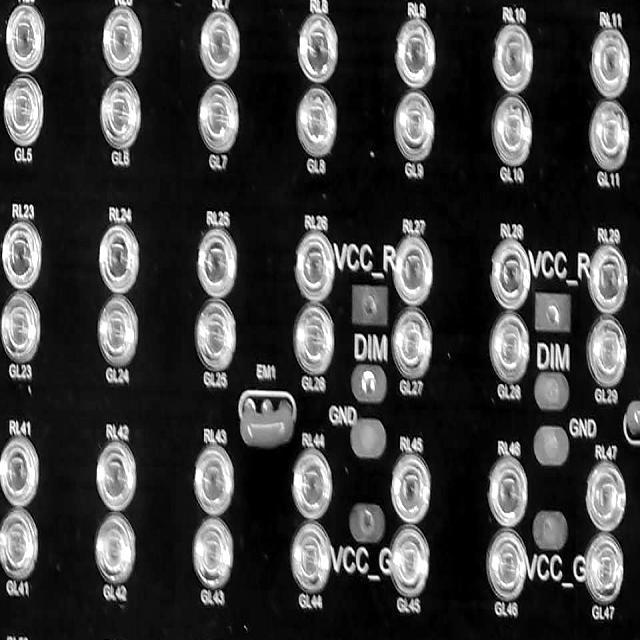EMC filter: (241, 394, 295, 449), (626, 398, 640, 443)
led: (100, 1, 145, 79), (488, 308, 532, 386), (583, 457, 628, 533), (289, 300, 336, 372), (4, 1, 47, 78), (391, 305, 436, 377), (487, 453, 530, 528), (488, 236, 532, 309), (296, 85, 340, 158), (486, 527, 528, 603), (393, 232, 435, 308), (195, 298, 238, 372), (586, 313, 629, 387), (2, 73, 46, 145), (390, 524, 431, 601), (297, 13, 340, 86), (194, 442, 236, 516), (100, 76, 142, 150), (98, 222, 141, 294), (197, 82, 240, 154), (0, 286, 41, 361), (200, 7, 241, 82), (98, 293, 140, 366), (96, 440, 139, 511), (292, 447, 333, 521), (295, 231, 336, 305), (291, 522, 333, 594), (96, 514, 138, 586), (192, 518, 235, 588), (588, 98, 632, 166), (394, 88, 436, 159), (0, 505, 40, 579), (493, 95, 534, 167), (197, 225, 237, 298), (589, 243, 630, 314), (395, 18, 436, 89), (2, 219, 42, 291), (493, 22, 533, 94), (0, 438, 41, 508), (584, 534, 626, 602), (590, 30, 631, 98), (391, 453, 431, 522)
